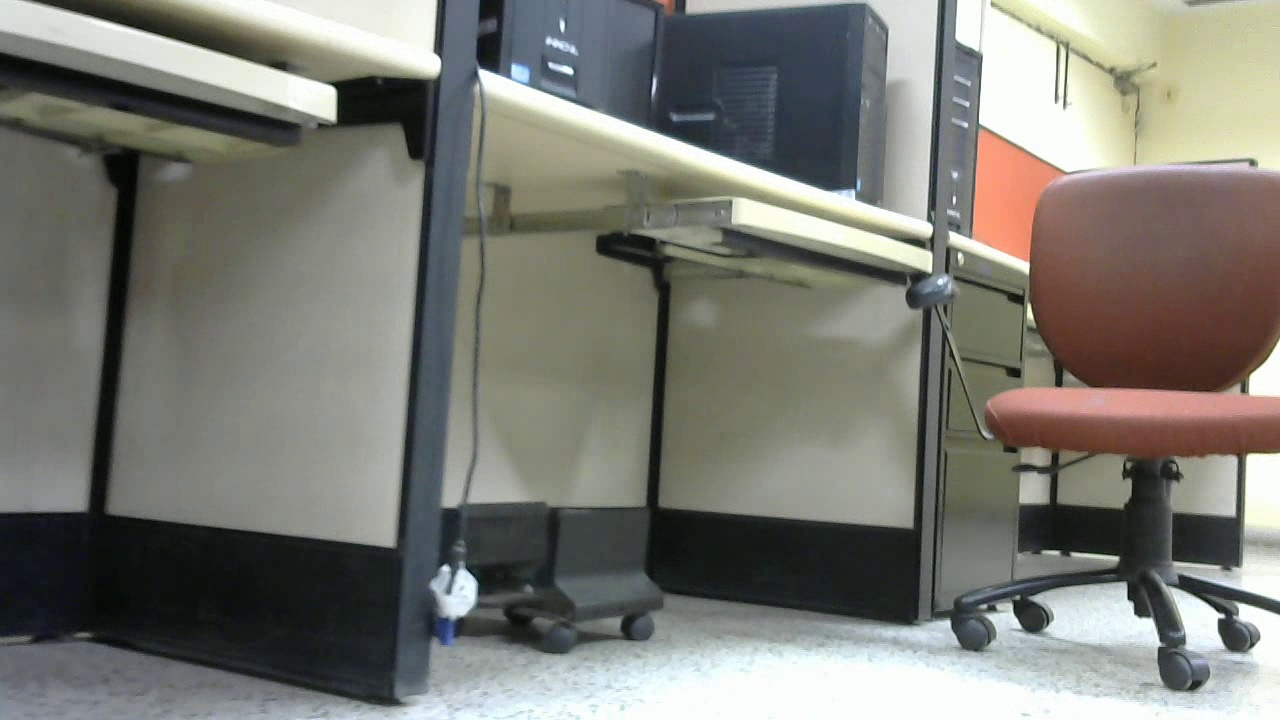chair: (893, 161, 1280, 691)
